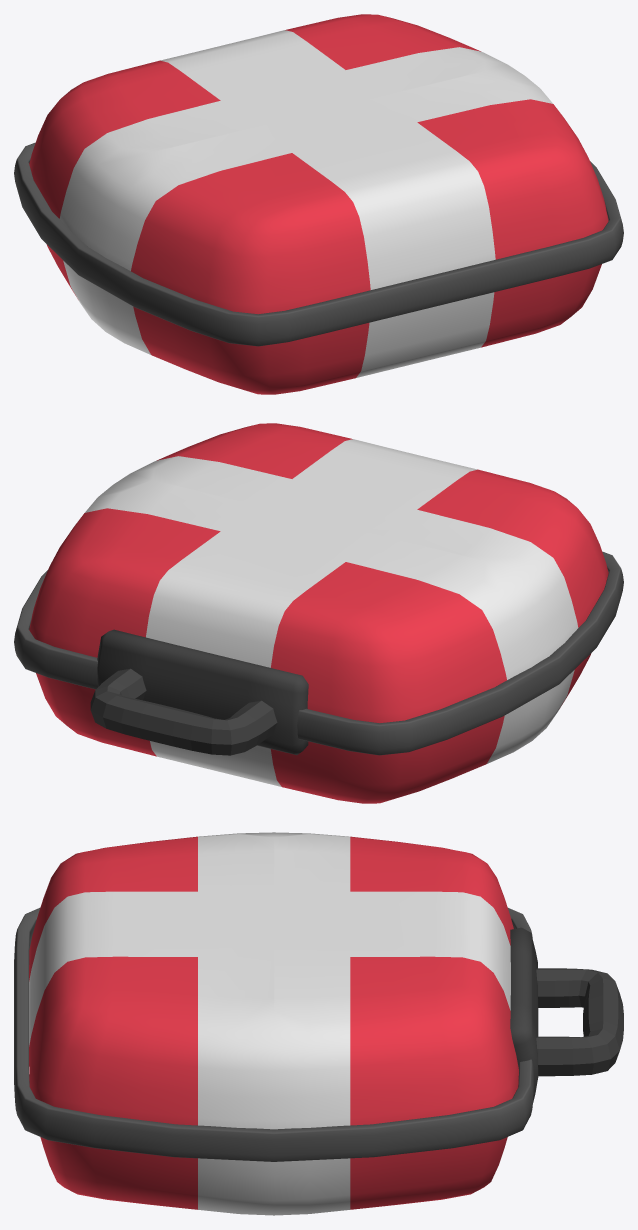
File: medkit.fbx
The picture shows the model from 3 angles, top to bottom: view 1: azimuth 30°, elevation 25°; view 2: azimuth 150°, elevation 25°; view 3: azimuth 270°, elevation 25°; orthographic projection. The views are drawn at different scales.
Parts seen in each view (by area): view 1: Cube.003; view 2: Cube.003; view 3: Cube.003.
Part boxes in pixels (x1,y1,x2,y2): Cube.003: [14, 14, 623, 394]; Cube.003: [14, 423, 623, 803]; Cube.003: [14, 832, 623, 1215].
Size of the model in its own units: 276 by 100 by 282.
